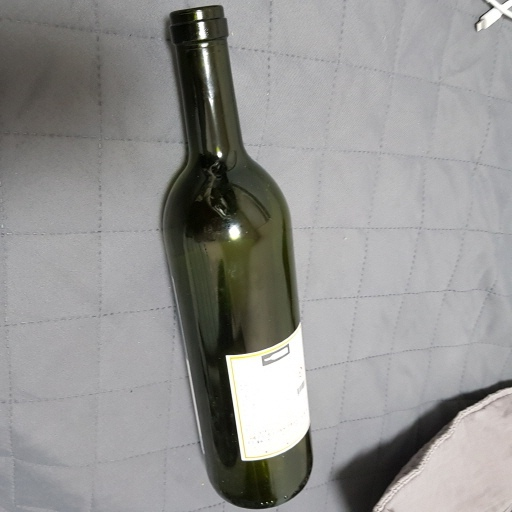Glass_2: (141, 3, 315, 512)
